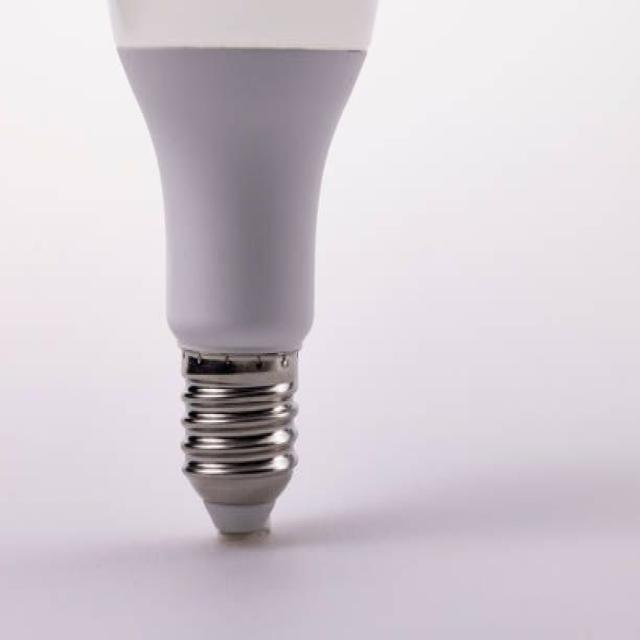electronic: (104, 0, 378, 536)
